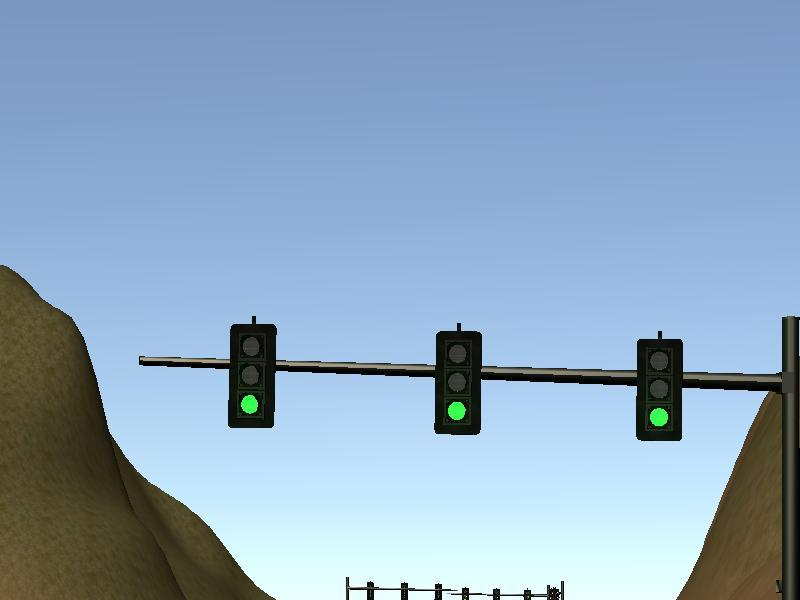Green: (437, 332, 482, 433), (230, 327, 275, 426), (639, 340, 682, 440)
